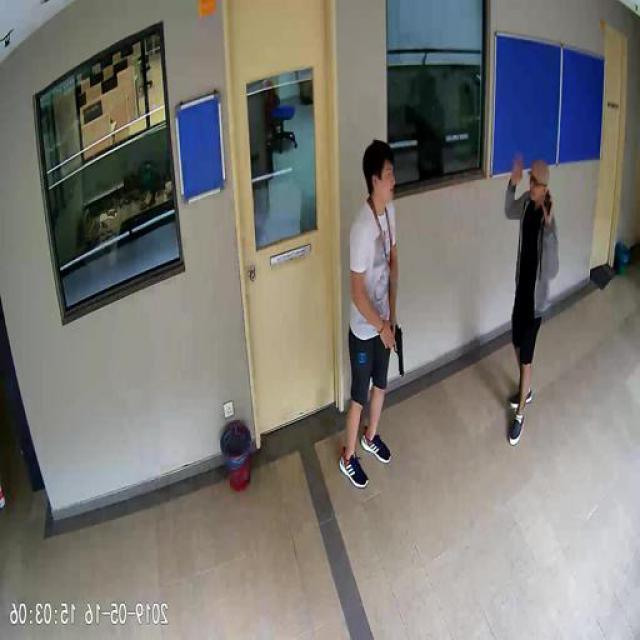Gun: (389, 320, 405, 374)
